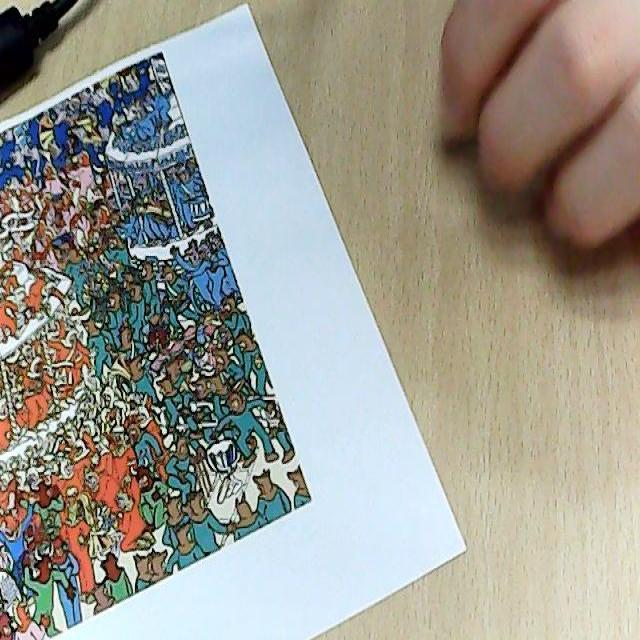waldo: (100, 181, 119, 212)
